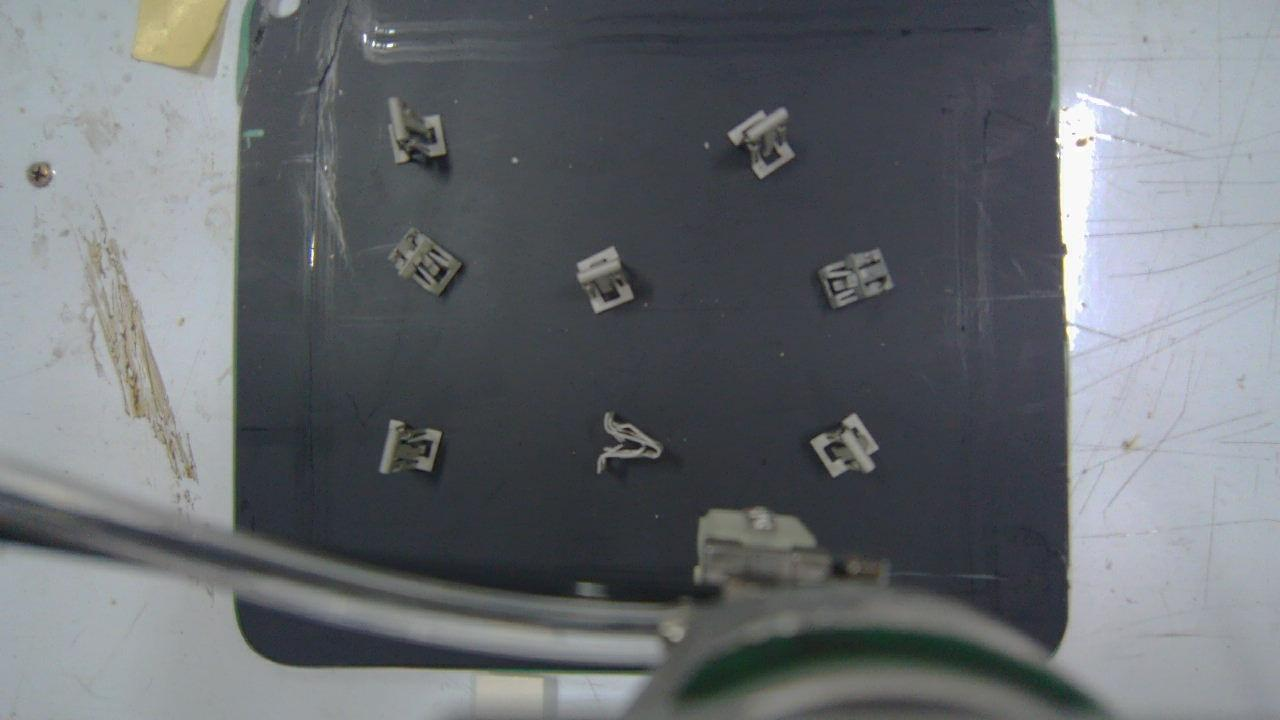ng: (387, 227, 462, 297), (727, 107, 797, 180), (818, 248, 896, 309), (810, 414, 880, 479), (596, 412, 664, 476), (387, 96, 446, 162), (576, 246, 633, 314), (378, 418, 442, 475)
